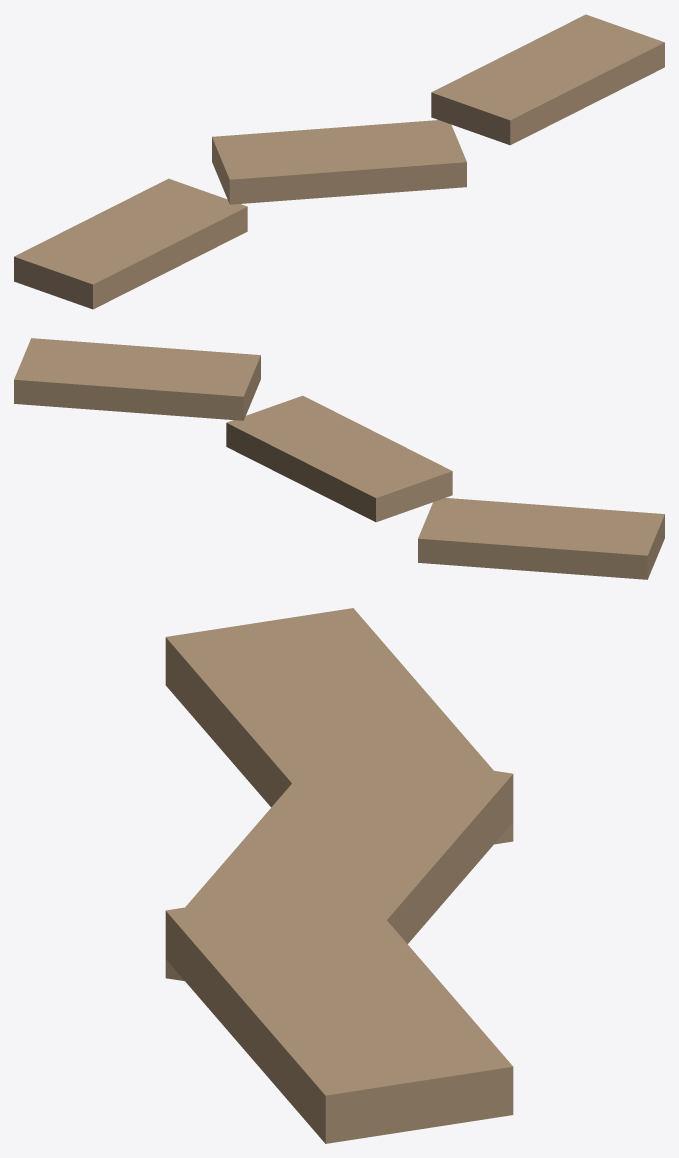
The model's file is zigzag_beam.glb.
3 views of the same model, one above another, from view 1: azimuth 30°, elevation 25°; view 2: azimuth 150°, elevation 25°; view 3: azimuth 270°, elevation 25° (orthographic). The views are drawn at different scales.
Visible parts, largest first — view 1: world; view 2: world; view 3: world.
Boxes of the visible parts, x1,y1,x2,y2 form: world: (14, 14, 664, 309); world: (14, 338, 664, 579); world: (165, 608, 513, 1143).
Bounding box in the file's own units: 4.32 × 0.56 × 1.04.
